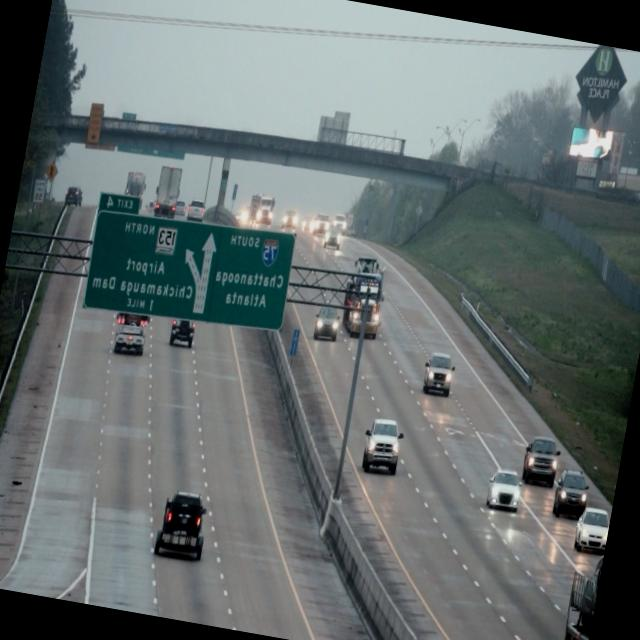Vehicle: (340, 252, 391, 342), (152, 489, 209, 565), (358, 415, 406, 475), (548, 466, 590, 521), (572, 502, 612, 554), (483, 467, 524, 517), (520, 435, 558, 486), (108, 308, 149, 355), (420, 349, 458, 396), (312, 299, 342, 344)
